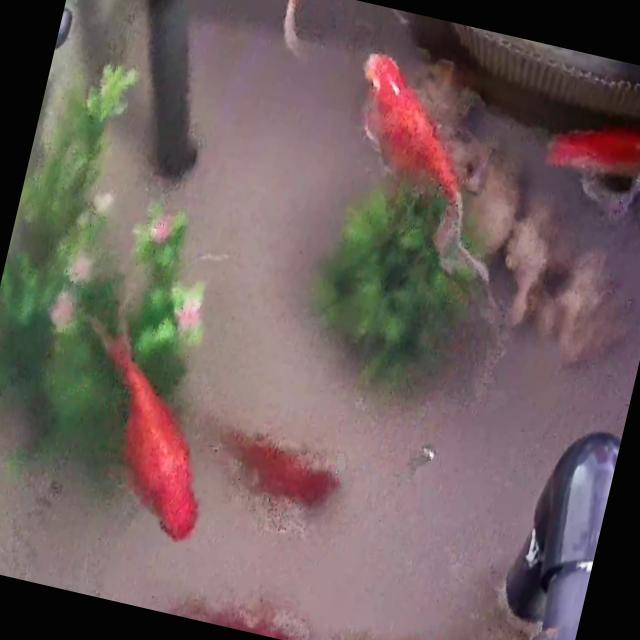fish: (51, 310, 234, 538), (339, 45, 481, 216), (208, 422, 339, 513), (543, 105, 640, 206), (164, 581, 301, 640), (267, 0, 344, 65), (346, 625, 463, 640)
